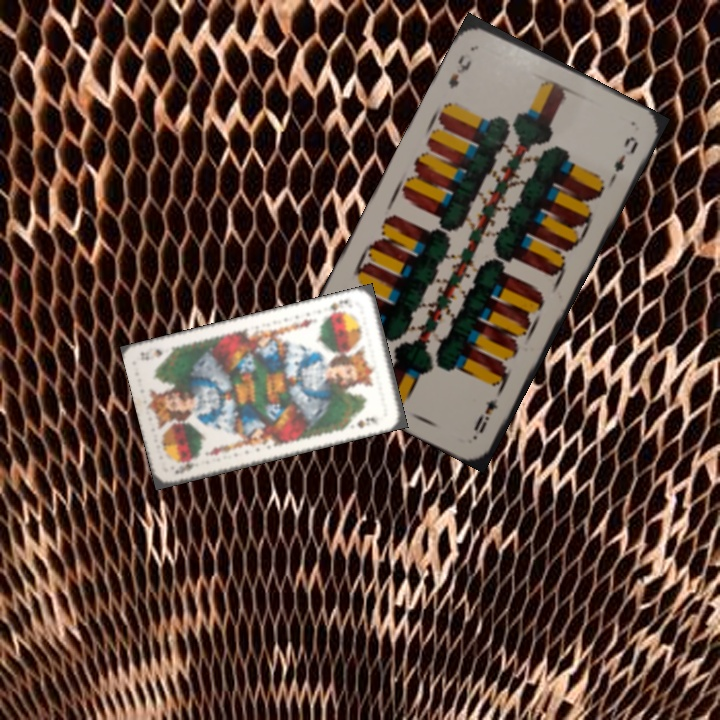E9: (469, 395, 501, 436), (444, 50, 475, 91)
SK: (321, 295, 351, 318), (171, 457, 196, 476)
